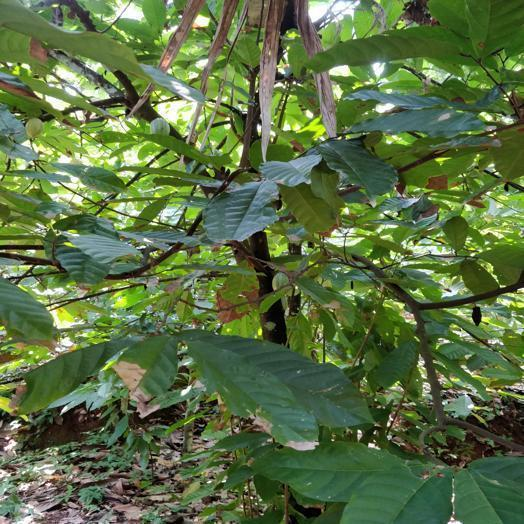Potassium: (185, 340, 320, 453), (114, 335, 178, 415)
